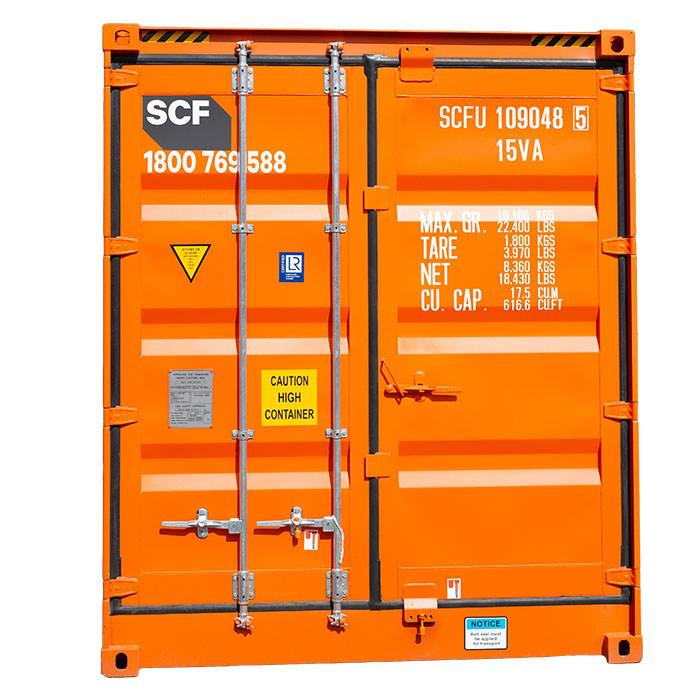ContainerNum: (438, 102, 593, 164)
